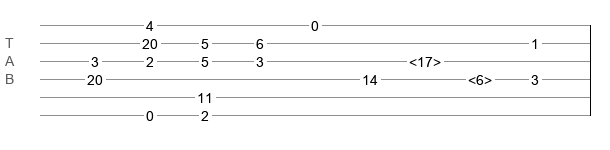0: (146, 108, 154, 118), (311, 18, 319, 28)
1: (531, 36, 539, 46)
11: (197, 90, 213, 100)
14: (362, 72, 378, 82)
2: (146, 54, 154, 64), (201, 108, 209, 118)
20: (87, 72, 103, 82), (142, 36, 158, 46)
3: (91, 54, 99, 64), (256, 54, 264, 64), (531, 72, 539, 82)
4: (146, 18, 154, 28)
5: (201, 36, 209, 46), (201, 54, 209, 64)
6: (256, 36, 264, 46)
harmonic: (409, 54, 441, 64), (468, 72, 492, 82)
